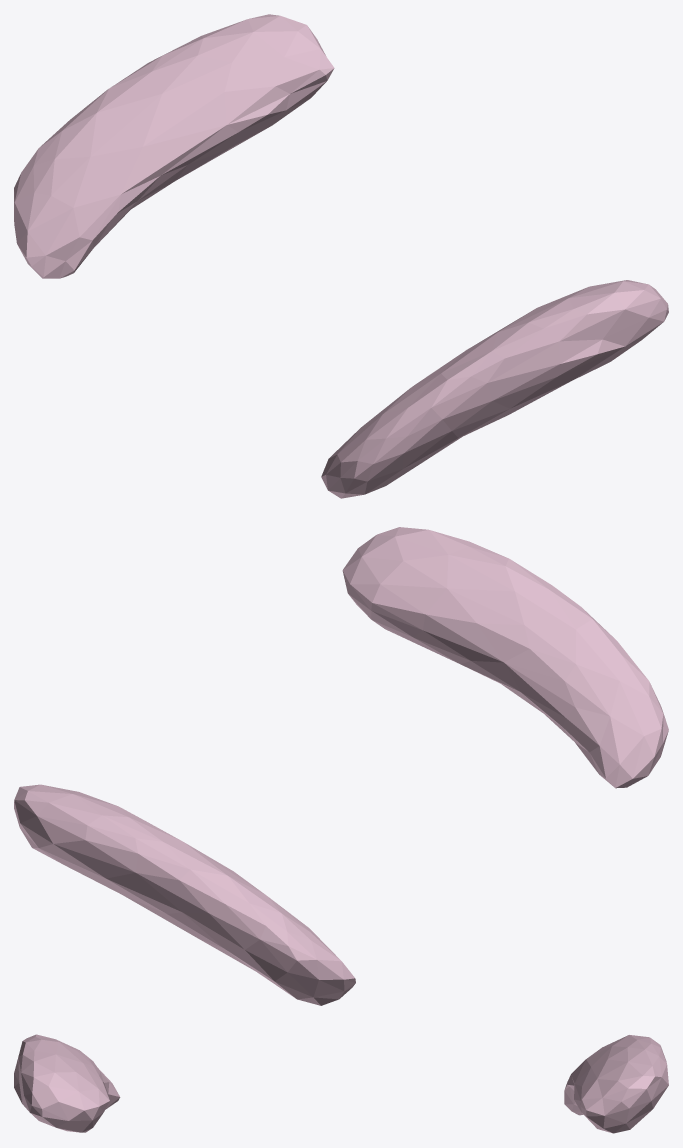
3 renders of one model, top to bottom at view 1: azimuth 30°, elevation 25°; view 2: azimuth 150°, elevation 25°; view 3: azimuth 270°, elevation 25°, orthographic. The views are drawn at different scales.
Parts seen in each view (by area): view 1: 1069.obj; view 2: 1069.obj; view 3: 1069.obj.
Boxes of the visible parts, box(x1,y1,x2,y2) form: 1069.obj: box(14, 14, 668, 498); 1069.obj: box(14, 527, 668, 1005); 1069.obj: box(14, 1034, 668, 1133).
Size of the model in its own units: 833 by 431 by 1801.
